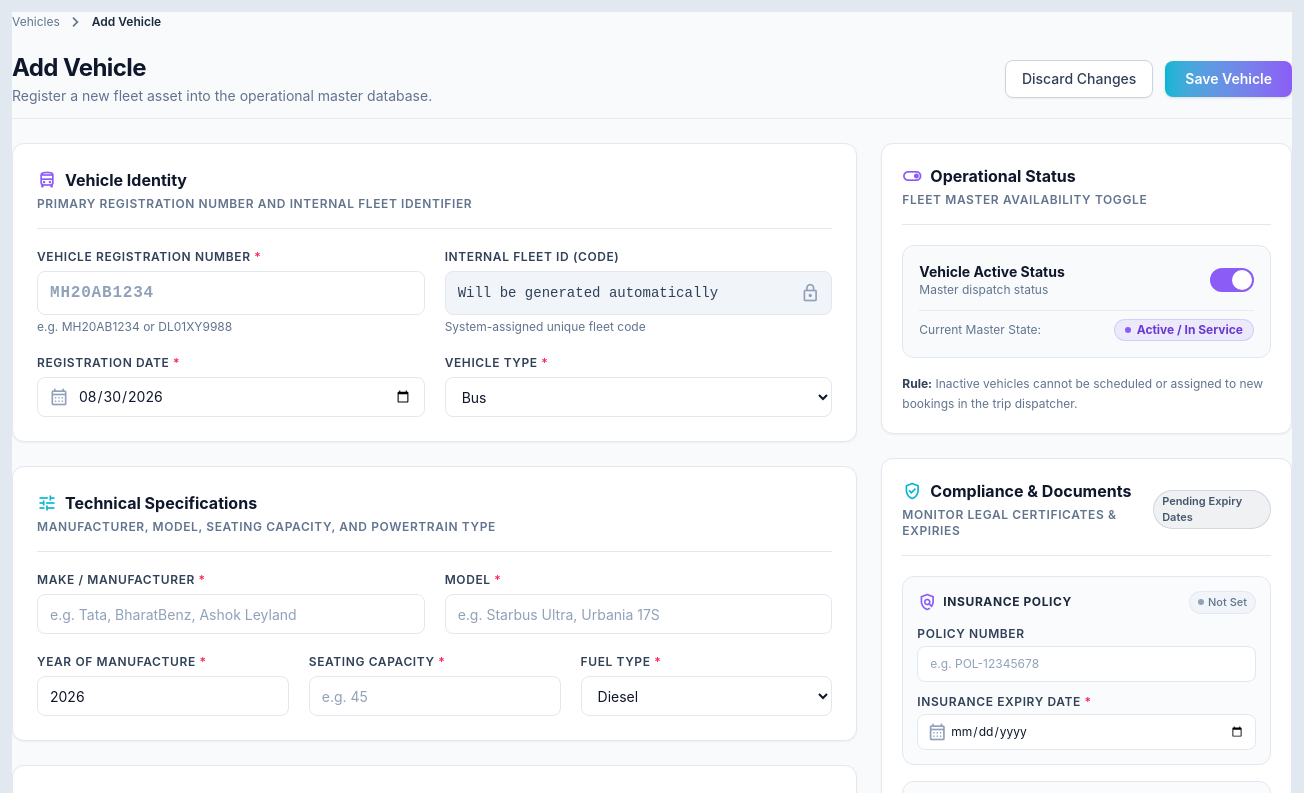
Test: VehicleForm Component › COMPLIANCE & STATUS › renders compliance document sections and active status switch
Check: the heading "Compliance & Documents" is shown, box x1=902 y1=479 x2=1145 y2=503
Check: the heading "Insurance Policy" is shown, box x1=943 y1=594 x2=1072 y2=610
What coordinates should you click on to do the following:
click the switch named "Vehicle Active Status"
I would click on:
 (1232, 280)
Its box is x1=1210 y1=268 x2=1254 y2=292.
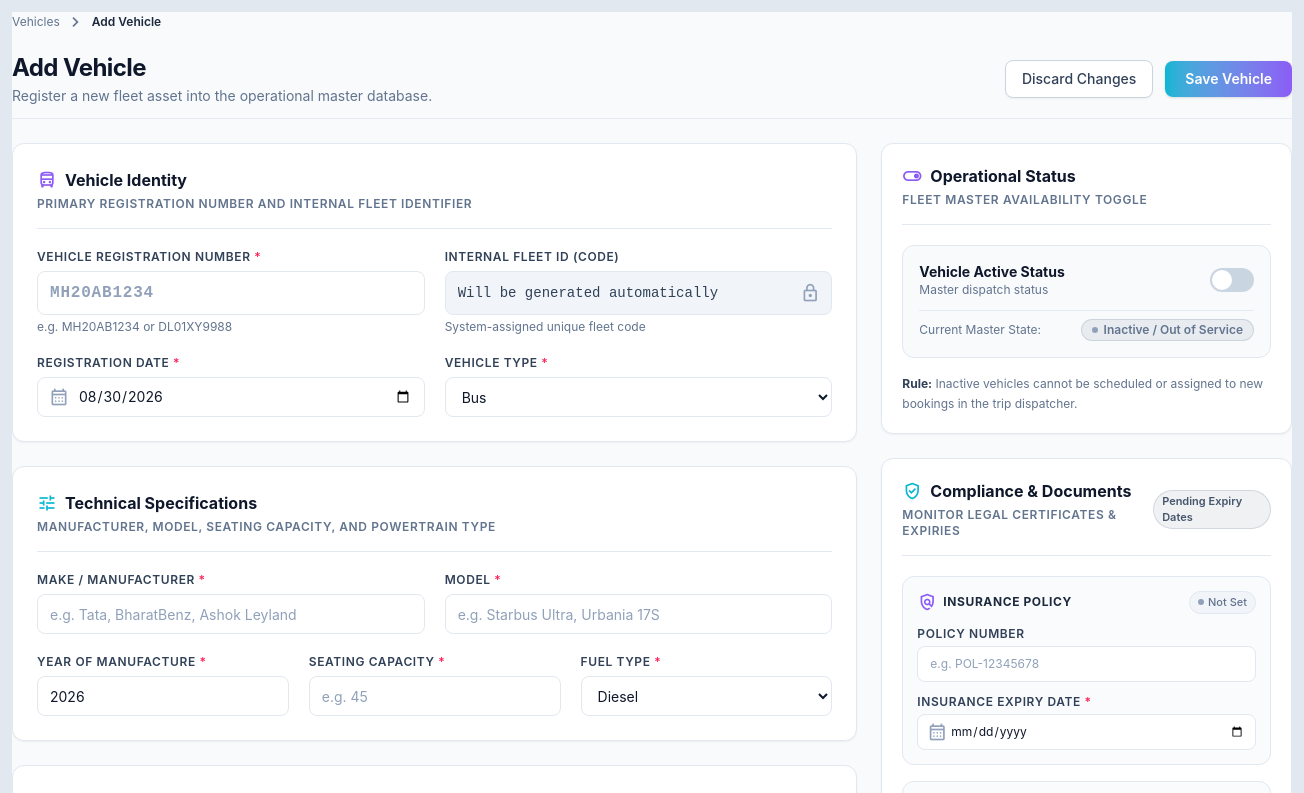
Check: the switch named "Vehicle Active Status" is not checked, box x1=1210 y1=268 x2=1254 y2=292
Check: the text "Inactive / Out of Service" is shown, box x1=1081 y1=319 x2=1254 y2=341
